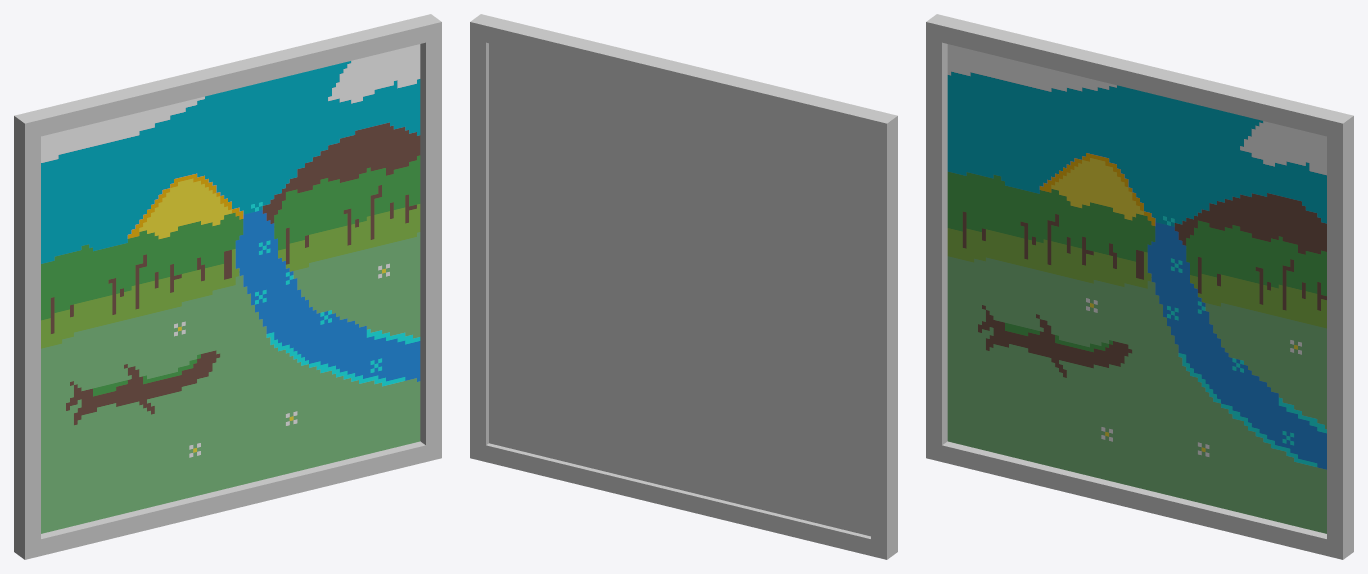
Rendered from Image1.fbx.
3 renders of one model, left to right at view 1: azimuth 30°, elevation 25°; view 2: azimuth 150°, elevation 25°; view 3: azimuth 330°, elevation 25°, orthographic.
Parts seen in each view (by area): view 1: Painting1; view 2: Painting1; view 3: Painting1.
Part boxes in pixels (bbox=[...]): Painting1: bbox=[14, 14, 441, 559]; Painting1: bbox=[470, 14, 897, 559]; Painting1: bbox=[926, 14, 1353, 559].
Bounding box in the file's own units: 108 × 108 × 4.87.
